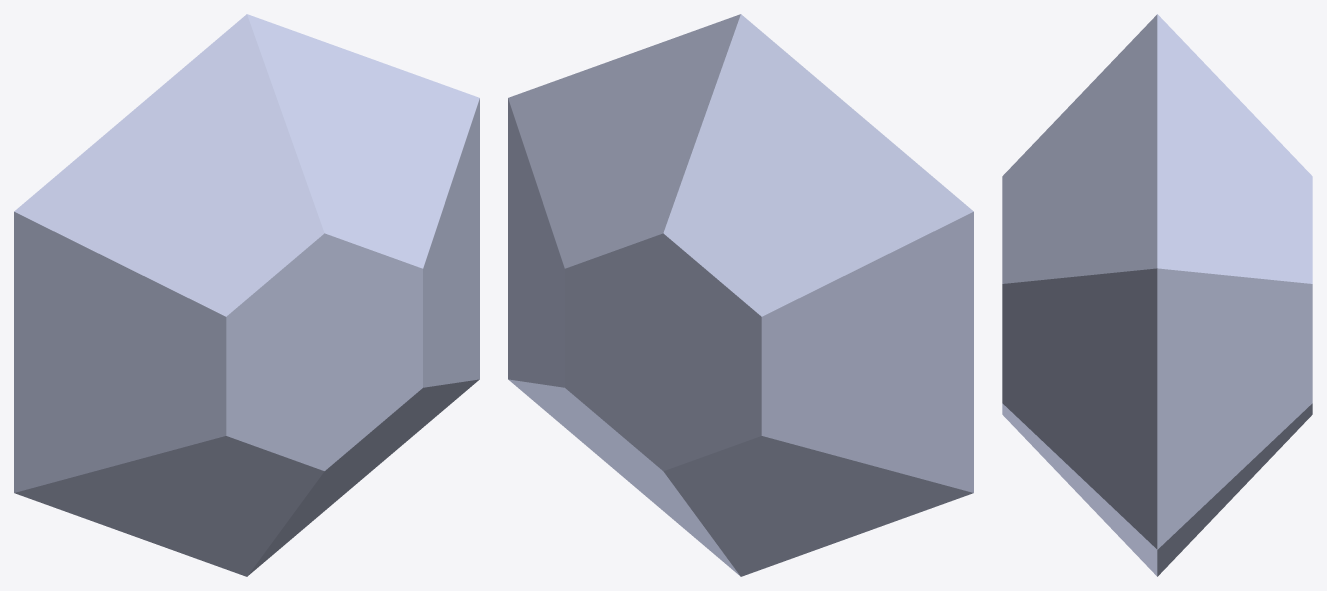
The model's file is daiya.glb.
3 views of the same model, side by side, from view 1: azimuth 30°, elevation 25°; view 2: azimuth 150°, elevation 25°; view 3: azimuth 270°, elevation 25° (orthographic).
Parts seen in each view (by area): view 1: daiya; view 2: daiya; view 3: daiya.
Boxes of the visible parts, <box> form: daiya: <box>14,14,479,576</box>; daiya: <box>508,14,973,576</box>; daiya: <box>1002,14,1312,576</box>.
Bounding box in the file's own units: 0.052 × 0.06 × 0.03.
